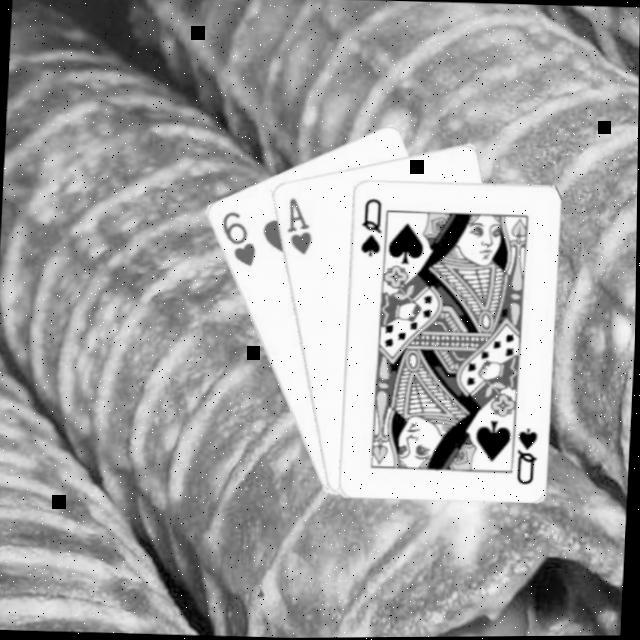6H: (214, 205, 258, 268)
AH: (281, 193, 315, 256)
QS: (354, 193, 385, 258), (511, 422, 540, 486)
